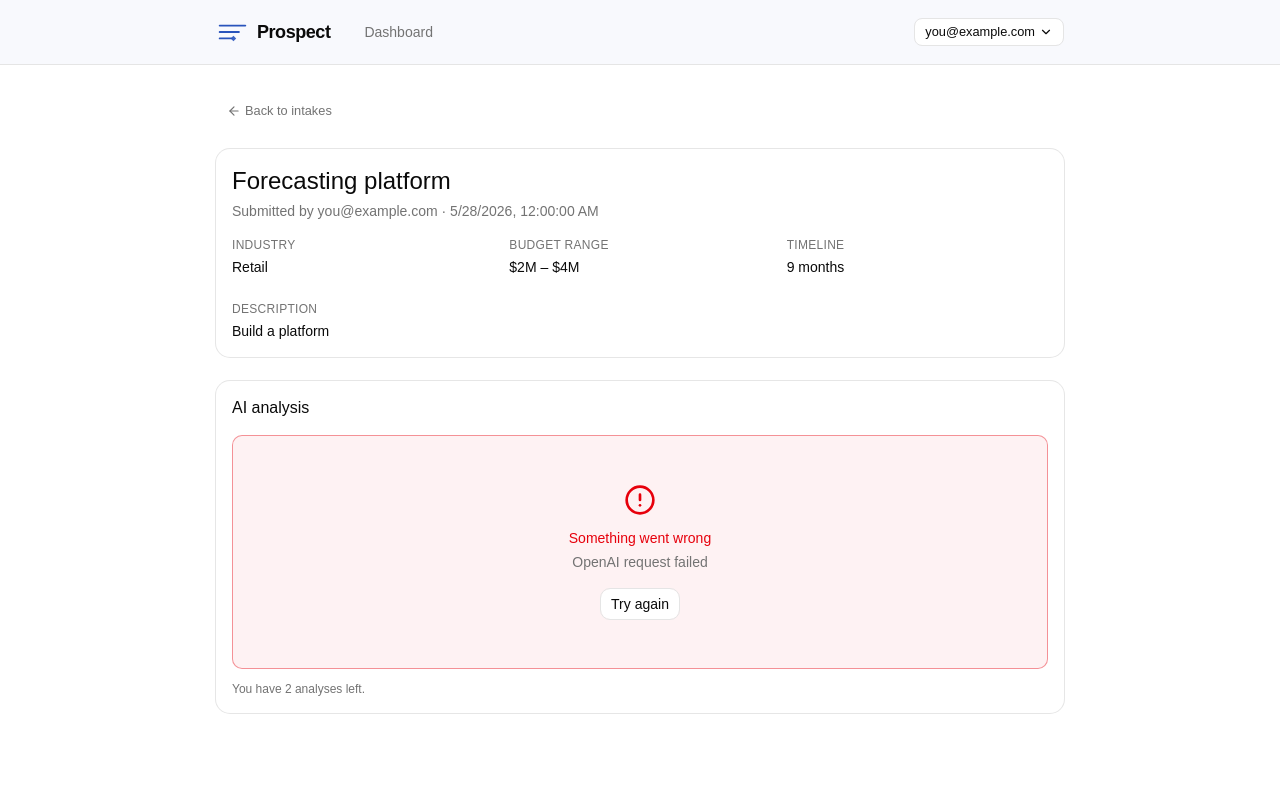
IntakeDetail — analysis states & re-analyze budget › shows a failed analysis with Retry, and re-running flips to Analyzing
Expected: the text "OpenAI request failed" is shown, [572,552,708,572]
Expected: the text "You have 2 analyses left." is shown, [232,682,365,696]
Click the button "Try again": (640, 604) [600,588,680,620]
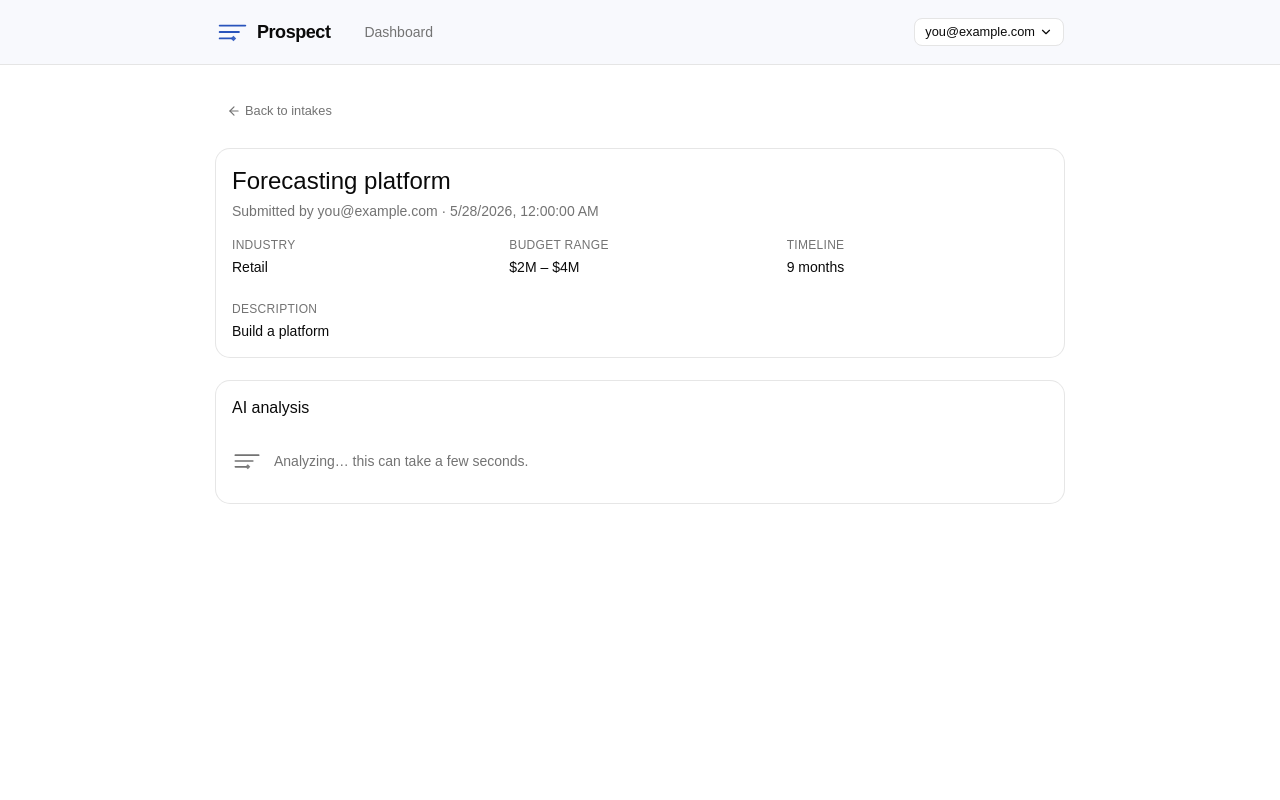
Expected: the text "Analyzing… this can take a few seconds." is shown, [274,451,528,471]
